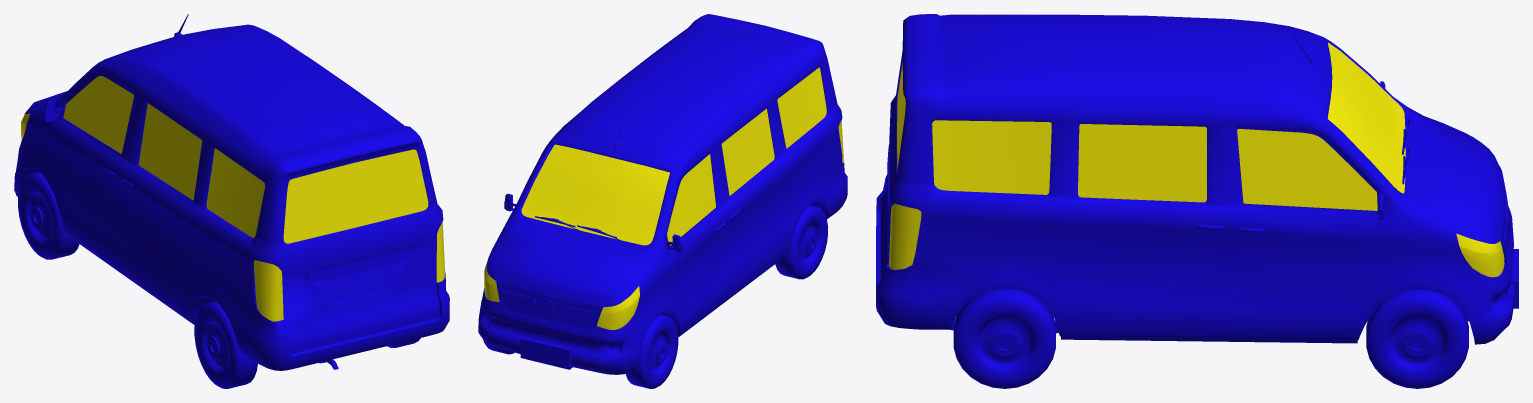
Rendered from MiniVan_A_Snaps004.FBX.
3 renders of one model, left to right at view 1: azimuth 30°, elevation 25°; view 2: azimuth 150°, elevation 25°; view 3: azimuth 270°, elevation 25°, orthographic. The views are drawn at different scales.
Visible parts, largest first — view 1: Geometry_MiniVan_A_LOD00; view 2: Geometry_MiniVan_A_LOD00; view 3: Geometry_MiniVan_A_LOD00.
Part boxes in pixels (bbox=[...]): Geometry_MiniVan_A_LOD00: bbox=[14, 14, 449, 388]; Geometry_MiniVan_A_LOD00: bbox=[478, 14, 847, 388]; Geometry_MiniVan_A_LOD00: bbox=[876, 14, 1518, 388].
Size of what is drawn, in the model's own units: 165 by 195 by 375.
